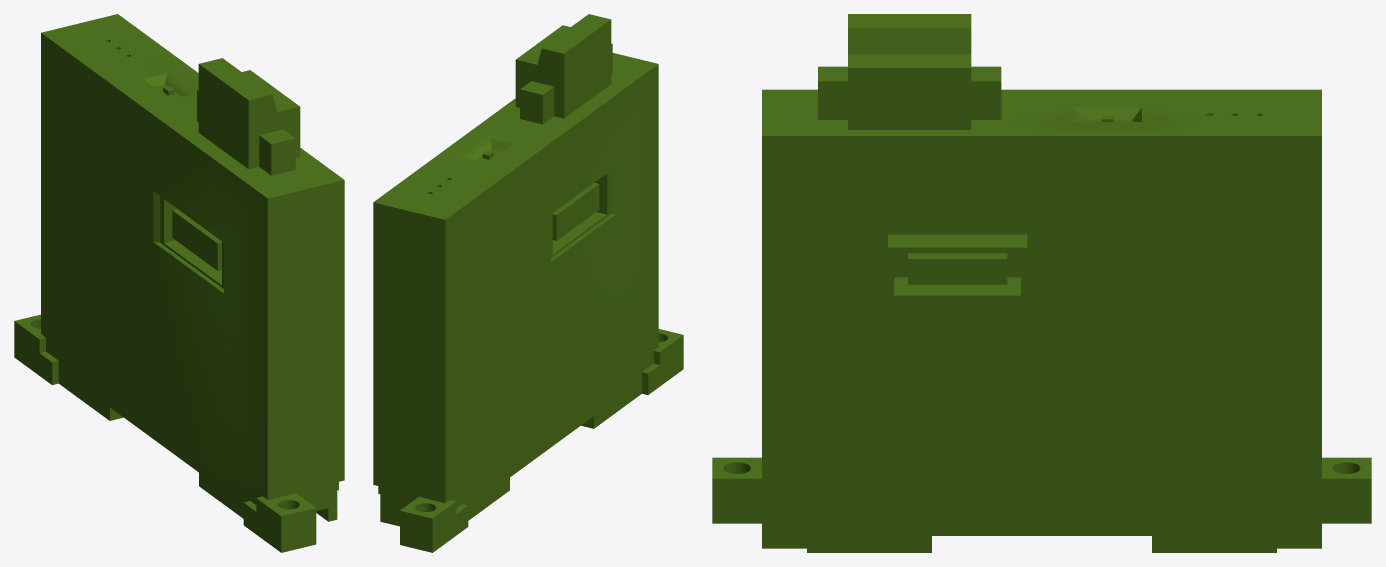
The model's file is FX-485ADP.fbx.
3 views of the same model, side by side, from view 1: azimuth 30°, elevation 25°; view 2: azimuth 150°, elevation 25°; view 3: azimuth 270°, elevation 25° (orthographic). The views are drawn at different scales.
Parts seen in each view (by area): view 1: FX-485ADP; view 2: FX-485ADP; view 3: FX-485ADP.
Boxes of the visible parts, bbox=[...] form: FX-485ADP: bbox=[14, 14, 344, 552]; FX-485ADP: bbox=[373, 14, 683, 552]; FX-485ADP: bbox=[712, 14, 1371, 552].
Bounding box in the file's own units: 24.1 × 89.1 × 106.
